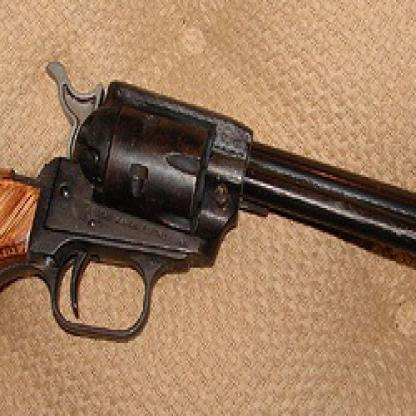gun: (0, 57, 415, 414)
